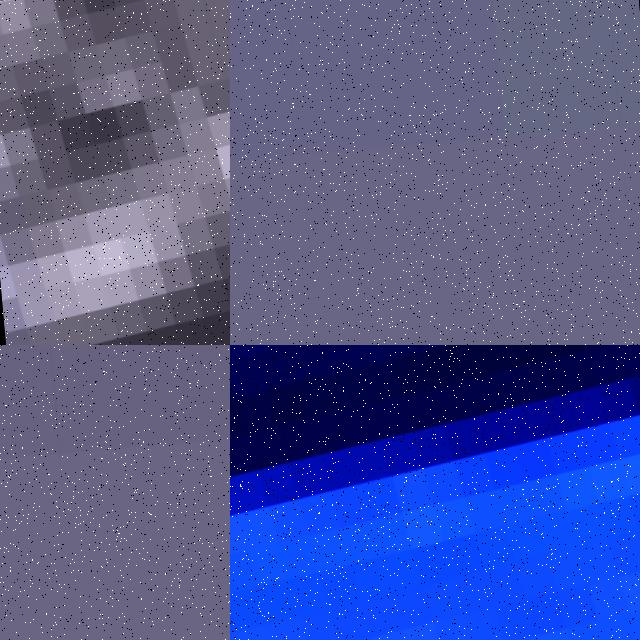drone: (230, 345, 640, 640), (0, 0, 230, 345)
